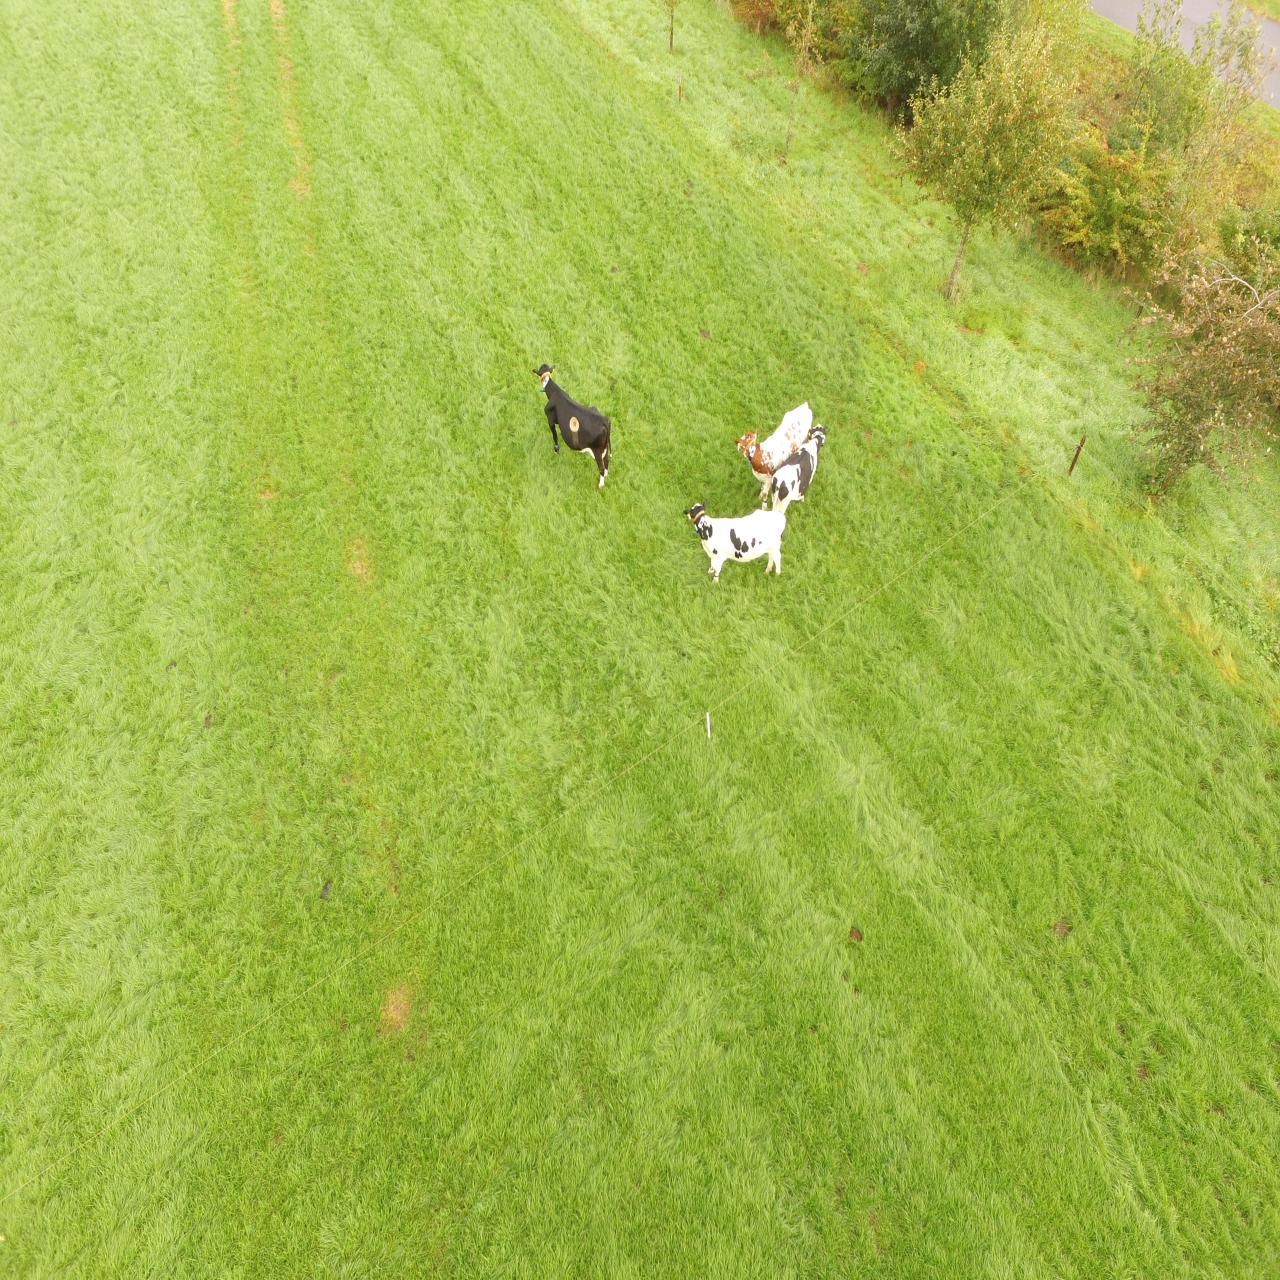cow: (533, 361, 614, 489), (685, 501, 782, 583), (734, 401, 810, 498), (769, 434, 825, 505)
